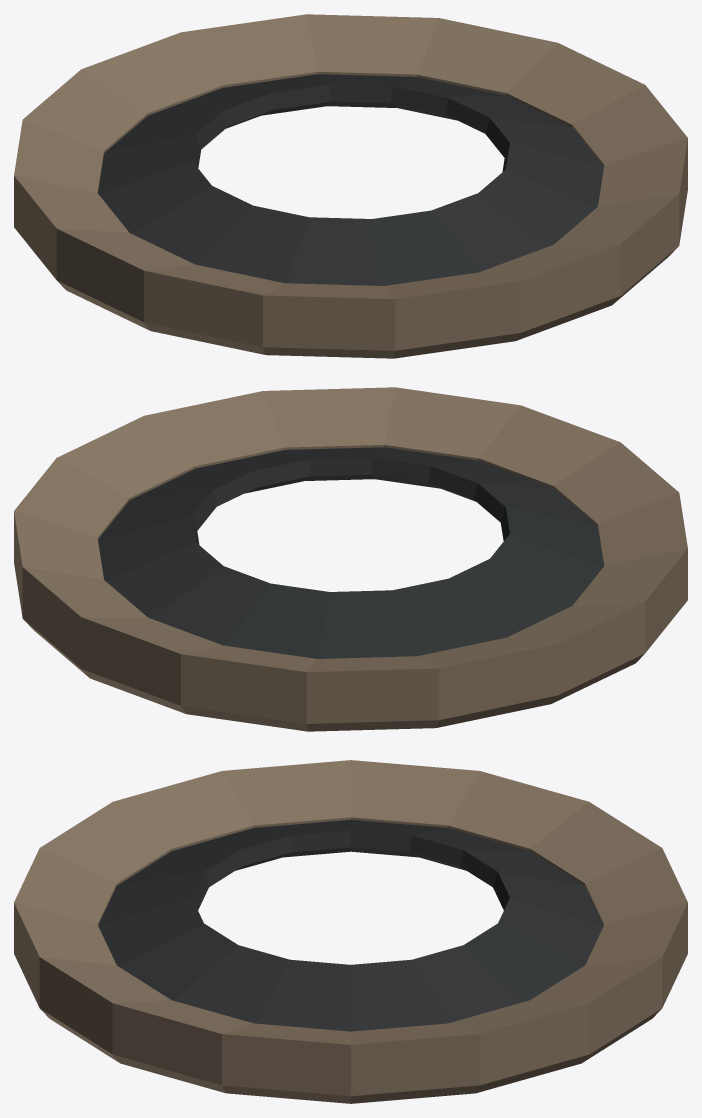
Rendered from warm-pinspot.glb.
3 views of the same model, one above another, from view 1: azimuth 30°, elevation 25°; view 2: azimuth 150°, elevation 25°; view 3: azimuth 270°, elevation 25° (orthographic).
Parts seen in each view (by area): view 1: Surface; view 2: Surface; view 3: Surface.
Boxes of the visible parts, bbox=[...] form: Surface: bbox=[14, 14, 687, 358]; Surface: bbox=[14, 387, 687, 731]; Surface: bbox=[14, 760, 687, 1103].
Size of the model in its own units: 0.25 by 0.028 by 0.25.
